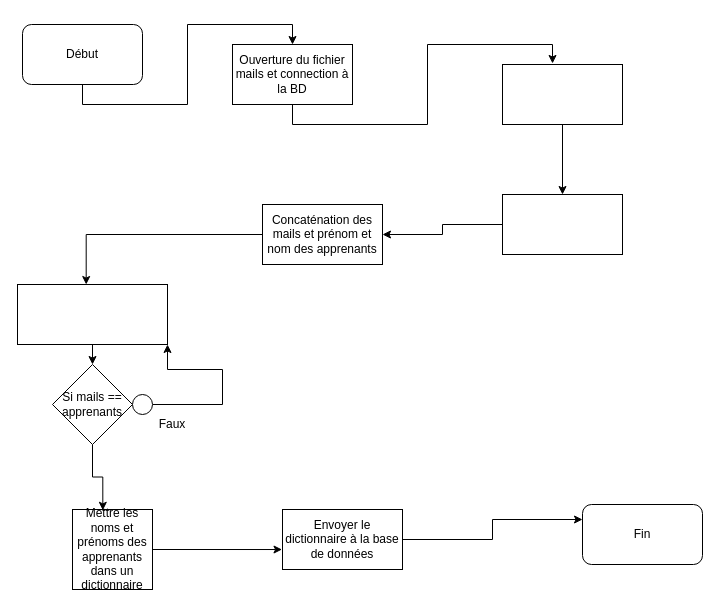
Image size: 720x610. Some labels were removed from this diagram. The shapes that lost their labels are listed below. From the top down, each one's centre as x and y in pixels, then its label:
At (562,94): "Séparation des différents mails par un séparateur".
At (562,224): "Mettre les mails dans une liste".
At (92,314): "Parcourir la liste de mails et des apprenants".
